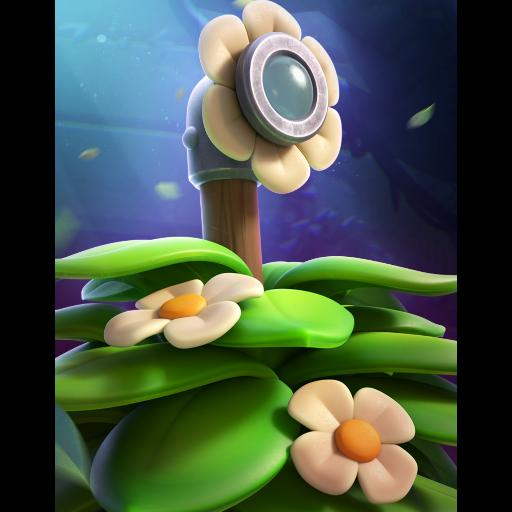suspicious-bush: (56, 0, 458, 512)
